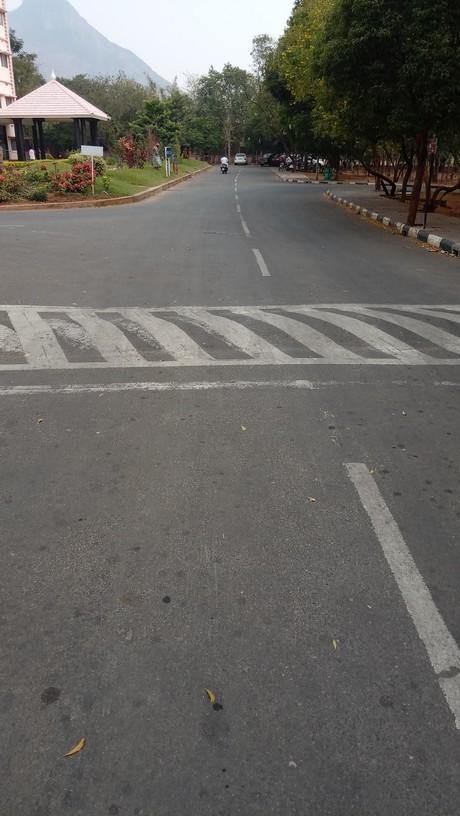speed-bump: (2, 300, 457, 389)
